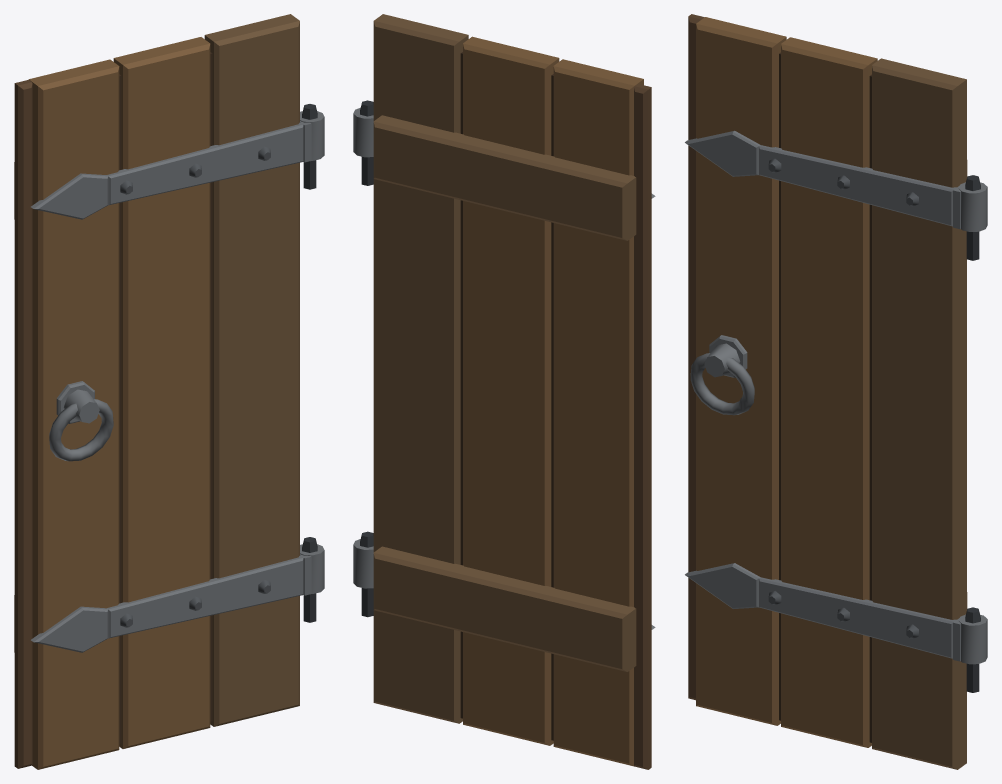
File: SM_LPD_Door_ShutterPair_01.fbx
3 views of the same model, side by side, from view 1: azimuth 30°, elevation 25°; view 2: azimuth 150°, elevation 25°; view 3: azimuth 330°, elevation 25° (orthographic).
Visible parts, largest first — view 1: SM_LPD_Door_ShutterPair_01; view 2: SM_LPD_Door_ShutterPair_01; view 3: SM_LPD_Door_ShutterPair_01.
Part boxes in pixels (bbox=[...]): SM_LPD_Door_ShutterPair_01: bbox=[14, 14, 324, 769]; SM_LPD_Door_ShutterPair_01: bbox=[353, 14, 655, 769]; SM_LPD_Door_ShutterPair_01: bbox=[685, 14, 987, 769].
Bounding box in the file's own units: 0.524 × 1.14 × 0.116.
